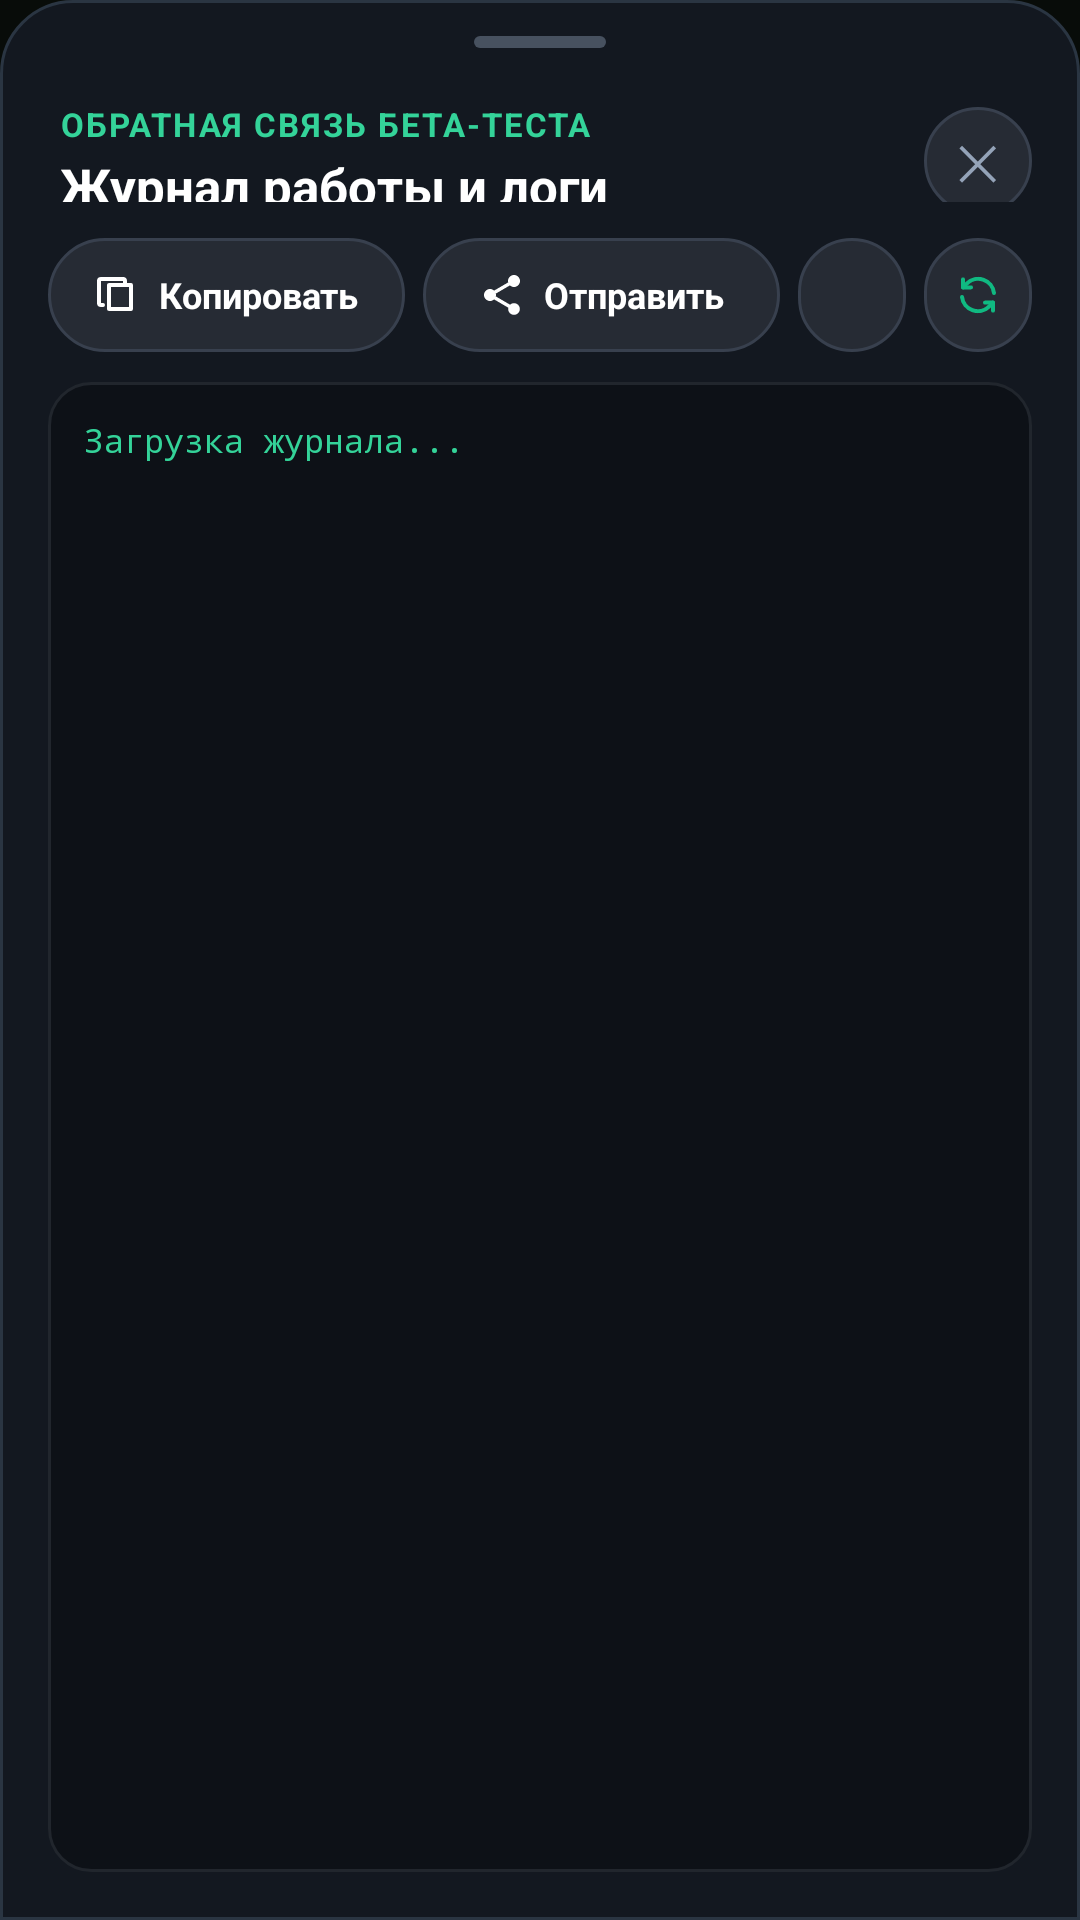

Icon click points for this 1080px×1920px phone screenshot, format point (x, y):
refresh: point (978, 295)
share: point (502, 295)
